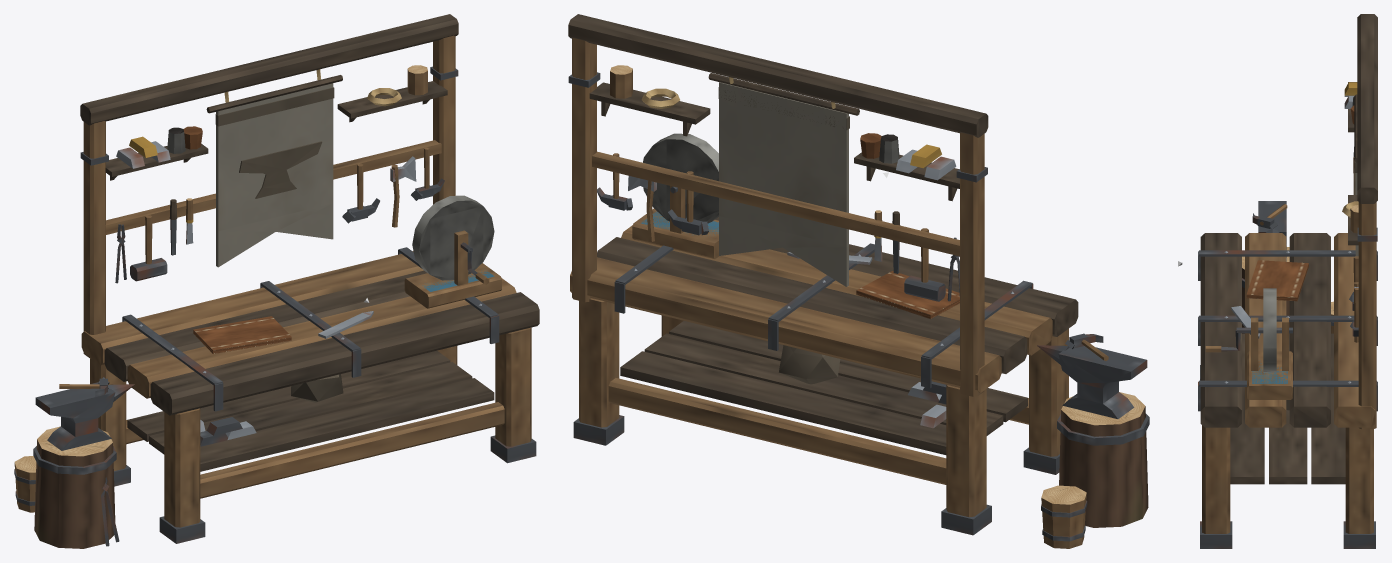
File: SM_Workbench_Level03.fbx
The picture shows the model from 3 angles, left to right: view 1: azimuth 30°, elevation 25°; view 2: azimuth 150°, elevation 25°; view 3: azimuth 270°, elevation 25°; orthographic projection. The views are drawn at different scales.
Parts seen in each view (by area): view 1: SM_Workbench_Level03; view 2: SM_Workbench_Level03; view 3: SM_Workbench_Level03.
Part boxes in pixels (x1,y1,x2,y2): SM_Workbench_Level03: (14,14,539,548); SM_Workbench_Level03: (568,14,1149,548); SM_Workbench_Level03: (1198,14,1377,548).
Bounding box in the file's own units: 10.09 × 7.8 × 3.89.
1 material, 1 textured.
